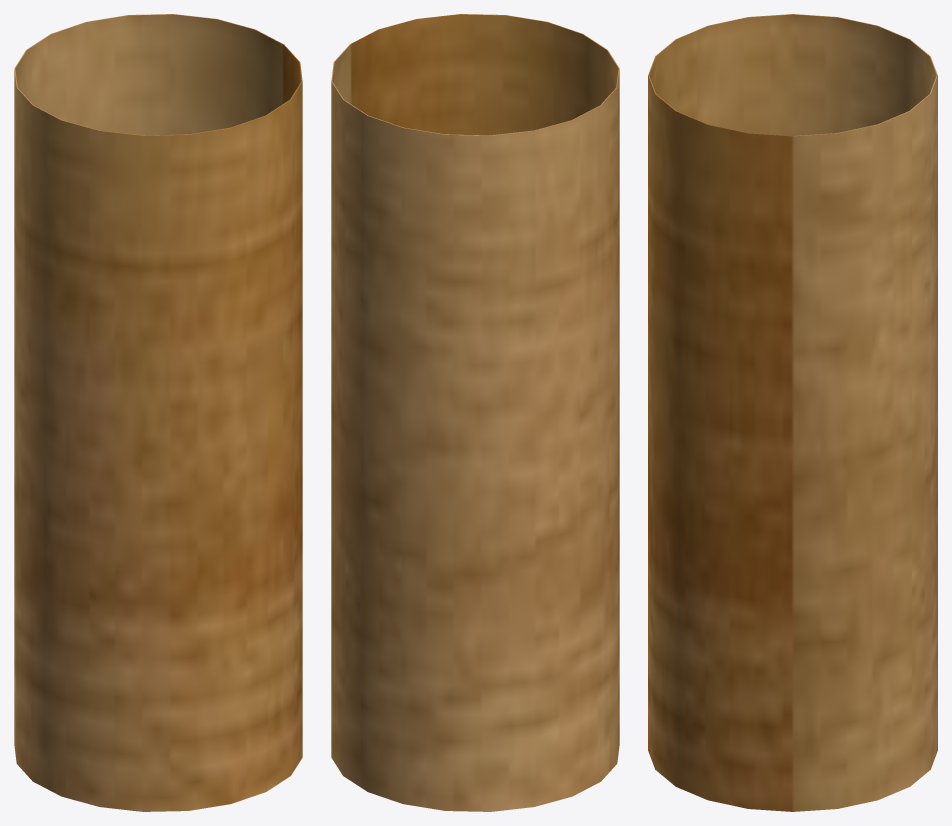
File: woodpipe.obj
3 renders of one model, left to right at view 1: azimuth 30°, elevation 25°; view 2: azimuth 150°, elevation 25°; view 3: azimuth 270°, elevation 25°, orthographic.
Visible parts, largest first — view 1: pPipe1; view 2: pPipe1; view 3: pPipe1.
Boxes of the visible parts, x1=… form: pPipe1: x1=14, y1=14, x2=302, y2=811; pPipe1: x1=331, y1=14, x2=619, y2=811; pPipe1: x1=648, y1=14, x2=937, y2=811.
Bounding box in the file's own units: 2.74 × 7.05 × 2.74.
Materials: 1 (1 with a texture image).
